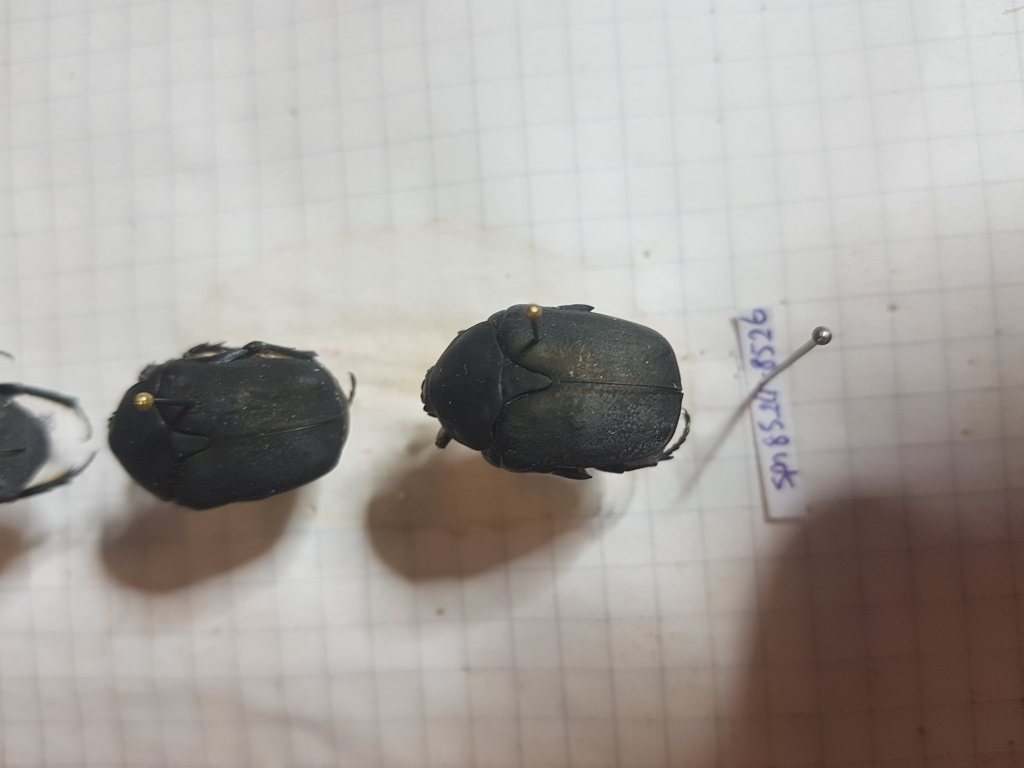Protaetia_afflicta: (414, 293, 695, 489), (103, 338, 357, 512)
